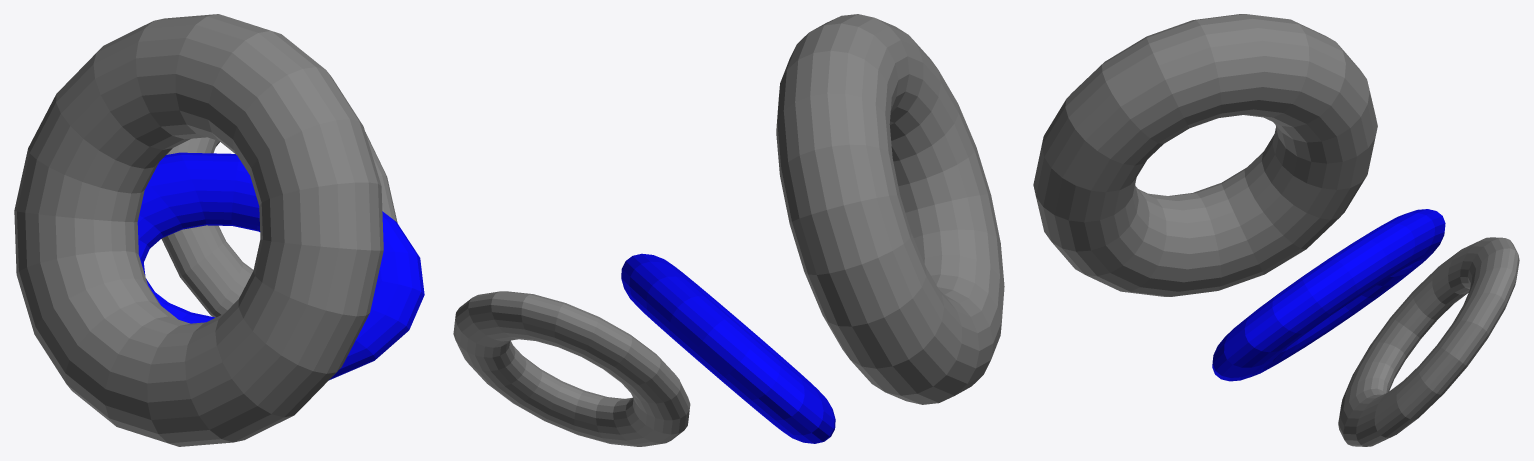
File: effect_lambert_emission_color.dae
3 views of the same model, side by side, from view 1: azimuth 30°, elevation 25°; view 2: azimuth 150°, elevation 25°; view 3: azimuth 270°, elevation 25° (orthographic). The views are drawn at different scales.
Parts seen in each view (by area): view 1: pTorus3, pTorus1, pTorus2; view 2: pTorus3, pTorus2, pTorus1; view 3: pTorus3, pTorus2, pTorus1.
Boxes of the visible parts, left/top/right/bottom form: pTorus3: left=14, top=14, right=383, bottom=446; pTorus1: left=137, top=152, right=424, bottom=380; pTorus2: left=161, top=132, right=397, bottom=317; pTorus3: left=776, top=14, right=1004, bottom=404; pTorus2: left=453, top=291, right=690, bottom=446; pTorus1: left=621, top=253, right=835, bottom=443; pTorus3: left=1033, top=14, right=1377, bottom=296; pTorus2: left=1338, top=237, right=1519, bottom=446; pTorus1: left=1212, top=209, right=1445, bottom=381.
Bounding box in the file's own units: 308 × 283 × 357.
